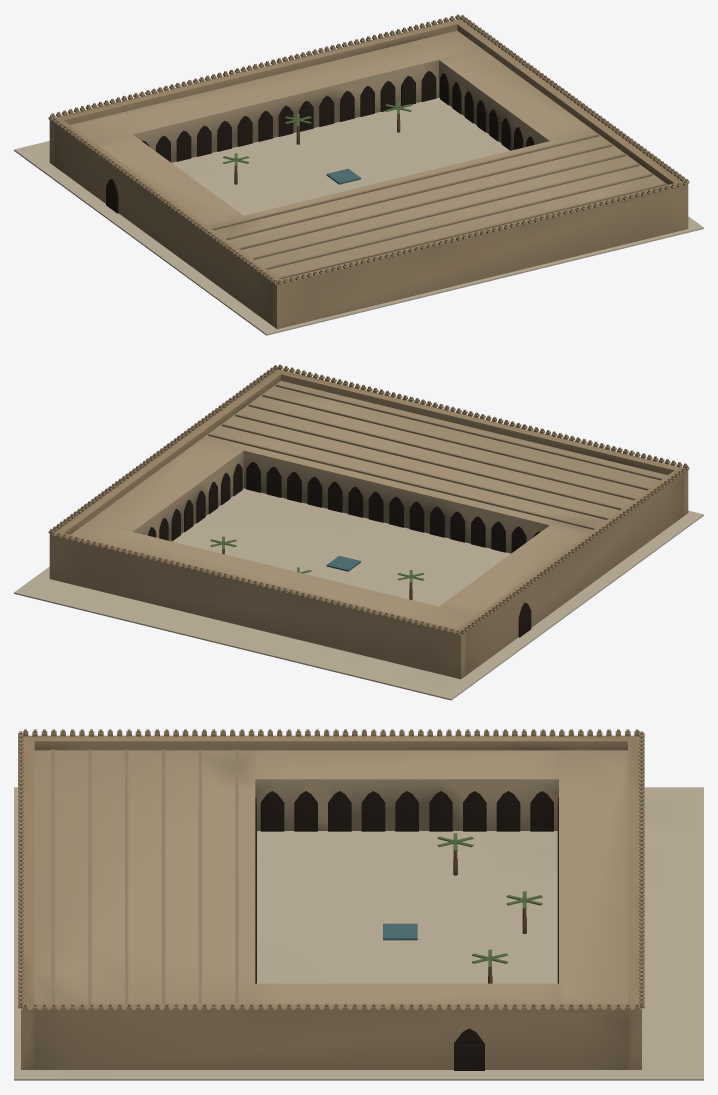
Rendered from mansur-mosque-770.glb.
The picture shows the model from 3 angles, top to bottom: view 1: azimuth 30°, elevation 25°; view 2: azimuth 150°, elevation 25°; view 3: azimuth 270°, elevation 25°; orthographic projection. The views are drawn at different scales.
Visible parts, largest first — view 1: p0_walls, p1_halls, p2_minaret; view 2: p0_walls, p1_halls, p2_minaret; view 3: p0_walls, p1_halls, p2_minaret.
Part boxes in pixels (x1,y1,x2,y2): p0_walls: [14, 14, 703, 335]; p1_halls: [70, 30, 667, 278]; p2_minaret: [106, 101, 411, 213]; p0_walls: [14, 364, 703, 700]; p1_halls: [70, 381, 667, 629]; p2_minaret: [210, 536, 531, 637]; p0_walls: [14, 729, 703, 1080]; p1_halls: [34, 749, 627, 1003]; p2_minaret: [383, 833, 542, 1070].
Bounding box in the file's own units: 100 × 10.92 × 100.
